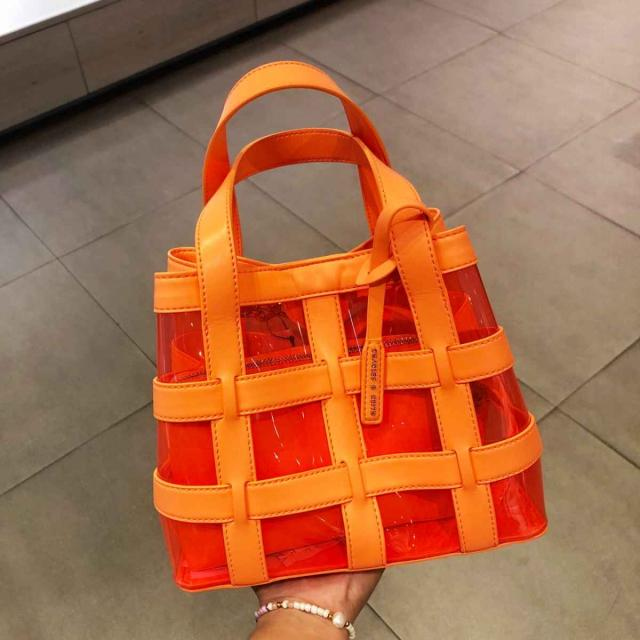Handbag: (150, 185, 556, 592)
